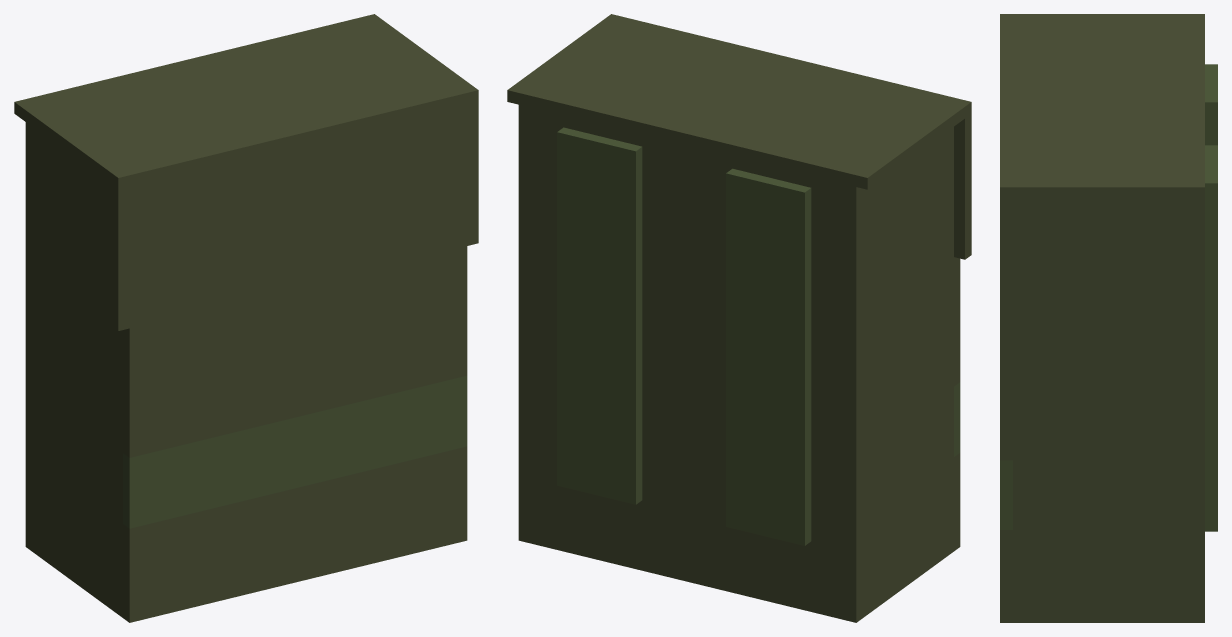
The model's file is gadget_pouch.glb.
The picture shows the model from 3 angles, left to right: view 1: azimuth 30°, elevation 25°; view 2: azimuth 150°, elevation 25°; view 3: azimuth 270°, elevation 25°; orthographic projection.
Visible parts, largest first — view 1: gadget_pouch:compound; view 2: gadget_pouch:compound; view 3: gadget_pouch:compound.
Part boxes in pixels (bbox=[...]): gadget_pouch:compound: bbox=[14, 14, 478, 622]; gadget_pouch:compound: bbox=[507, 14, 971, 622]; gadget_pouch:compound: bbox=[1000, 14, 1217, 622].
Size of the model in its own units: 0.128 by 0.152 by 0.068.
